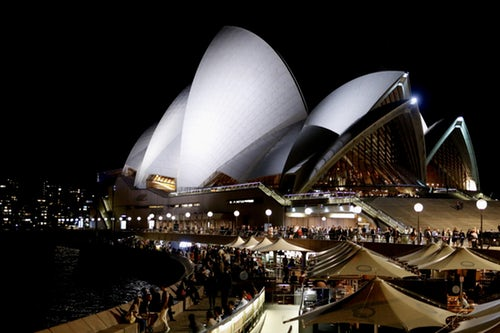opera house: (64, 14, 499, 213)
